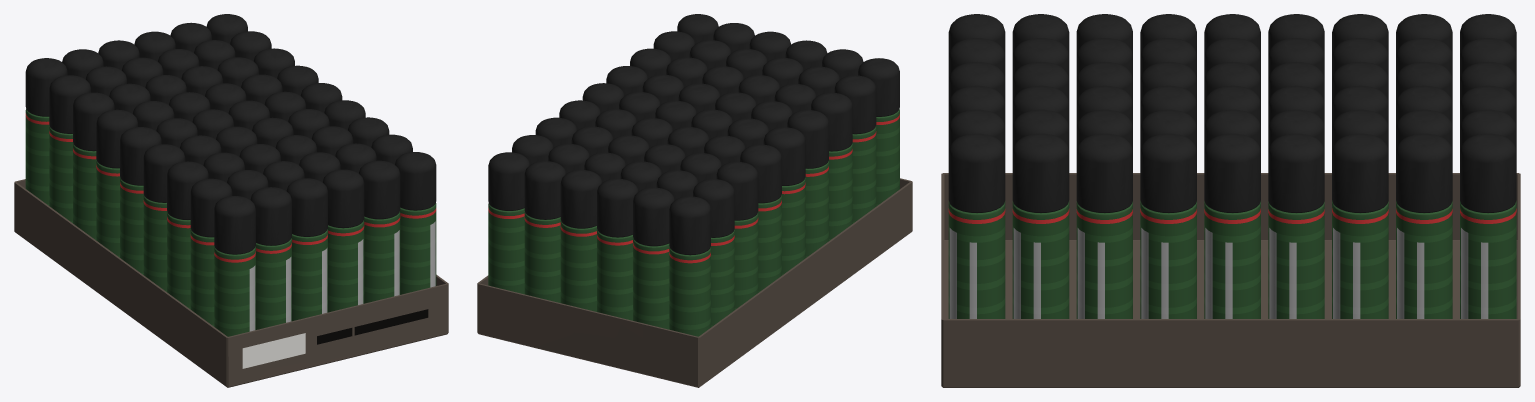
The model's file is SM_SpayCan_Pk_UnSealed_D.fbx.
3 views of the same model, side by side, from view 1: azimuth 30°, elevation 25°; view 2: azimuth 150°, elevation 25°; view 3: azimuth 270°, elevation 25° (orthographic). The views are drawn at different scales.
Visible parts, largest first — view 1: SM_SpayCan_Pk_UnSealed_D; view 2: SM_SpayCan_Pk_UnSealed_D; view 3: SM_SpayCan_Pk_UnSealed_D.
Part boxes in pixels (left/top/right/bottom): SM_SpayCan_Pk_UnSealed_D: left=14, top=14, right=448, bottom=387; SM_SpayCan_Pk_UnSealed_D: left=477, top=14, right=912, bottom=387; SM_SpayCan_Pk_UnSealed_D: left=941, top=14, right=1520, bottom=387.
Bounding box in the file's own units: 53.95 × 40.18 × 89.8.
